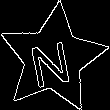N_N: (28, 30, 77, 87)
